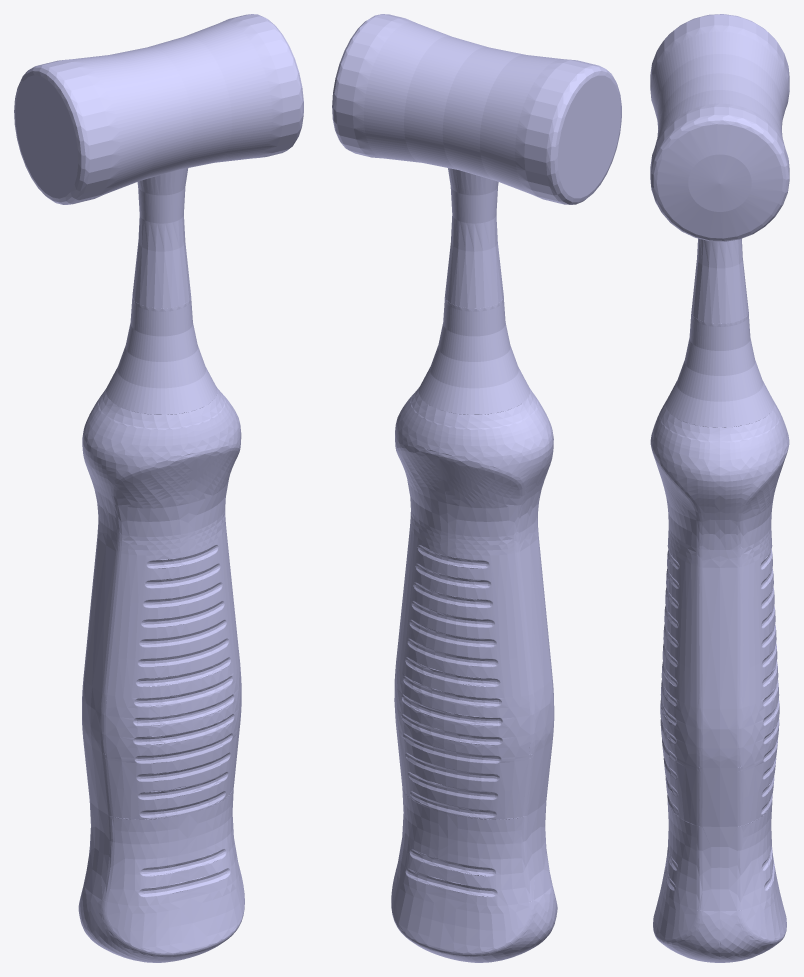
The model's file is HammerGrob.obj.
The picture shows the model from 3 angles, left to right: view 1: azimuth 30°, elevation 25°; view 2: azimuth 150°, elevation 25°; view 3: azimuth 270°, elevation 25°; orthographic projection. The views are drawn at different scales.
Visible parts, largest first — view 1: Körper1; view 2: Körper1; view 3: Körper1.
Boxes of the visible parts, <box> form: Körper1: <box>14,14,303,962</box>; Körper1: <box>332,14,621,962</box>; Körper1: <box>650,14,789,962</box>.
Size of the model in its own units: 0.063 by 0.2379 by 0.034.
